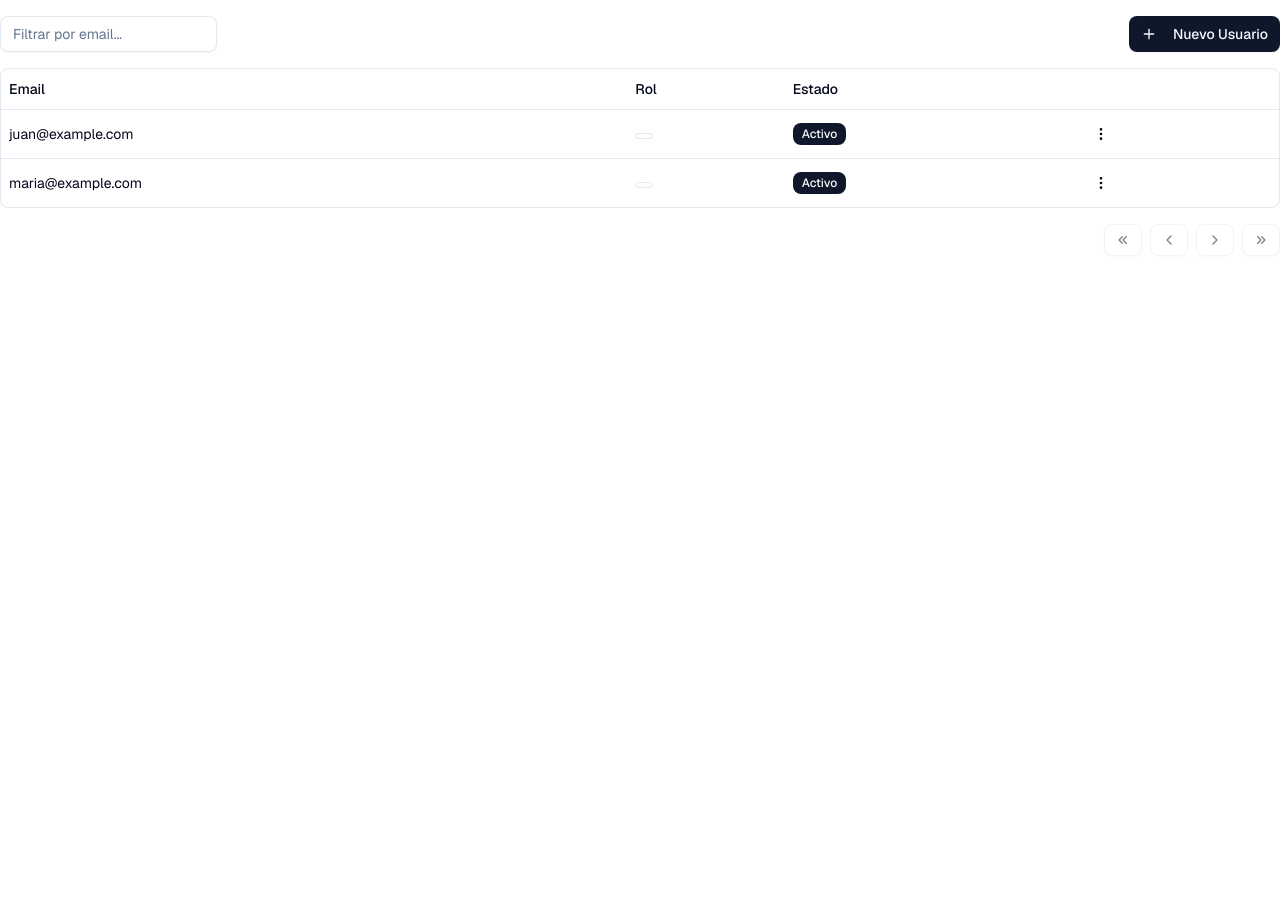
Test: Client Management Flow Integration Tests › should open add client form
What coordinates should you click on to do the following:
click the button "Nuevo Usuario"
I would click on:
 (1205, 34)
Its box is [1129, 16, 1279, 52].
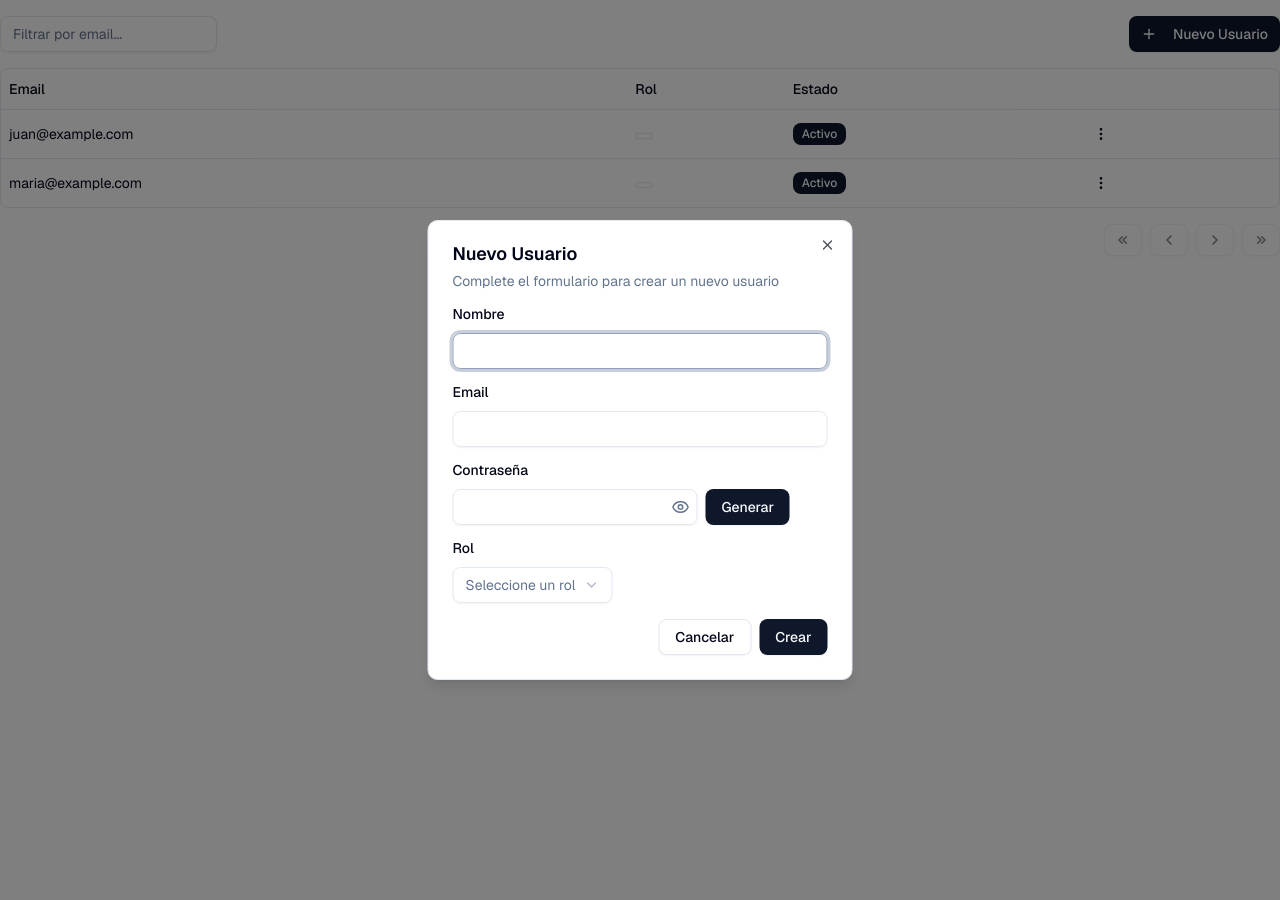
Now the dialog is shown, box [428, 220, 852, 680]
